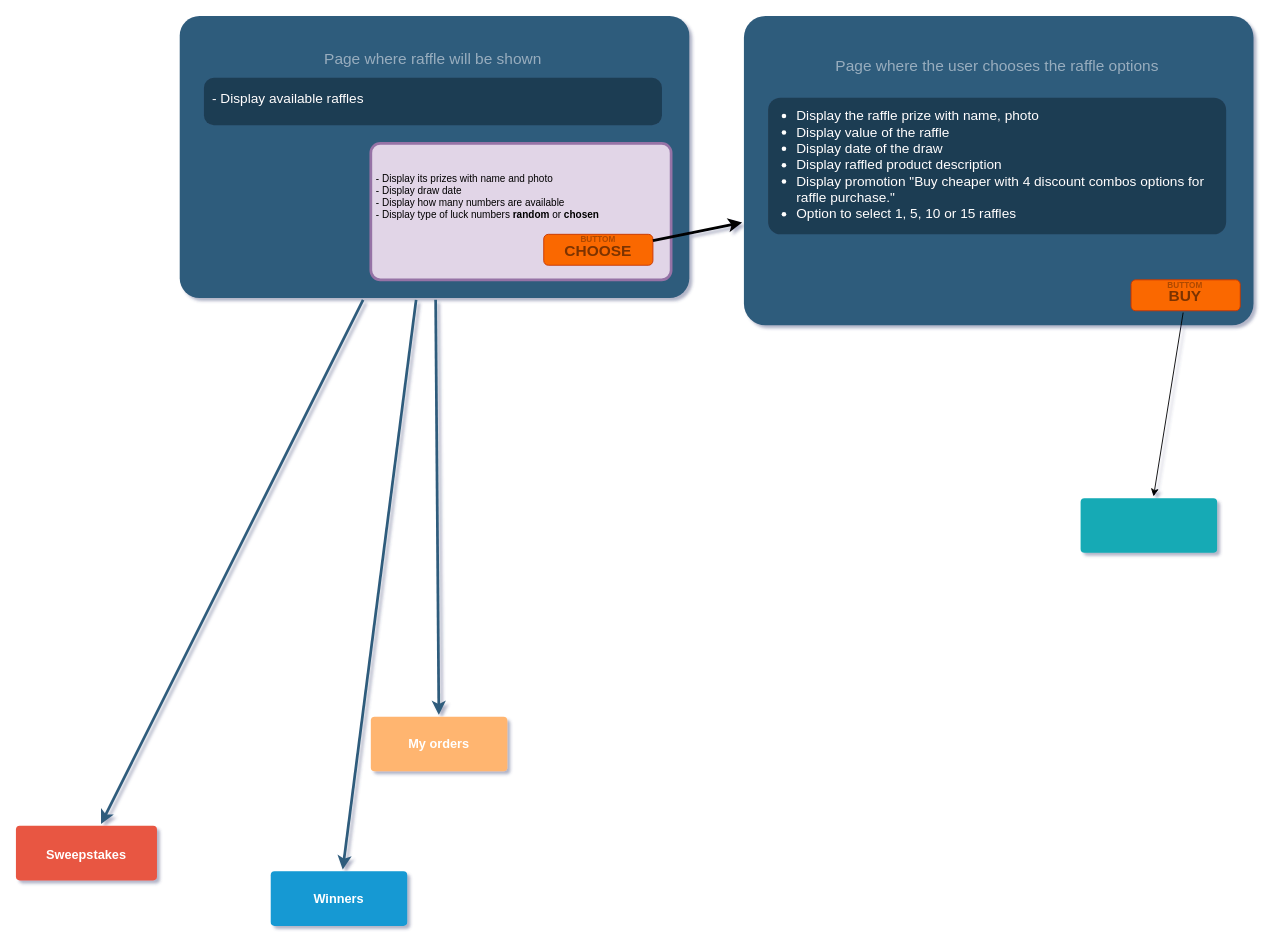
Image size: 1274x946. Some labels were removed from this diagram. The box of each missing label's shape, as (x1, y1, x2, y2) in pixels:
Cart page: (743, 15, 1253, 325)
Checkout: (1080, 498, 1217, 552)
Raffle item: (369, 142, 672, 281)
Raffle page: (179, 15, 689, 298)
